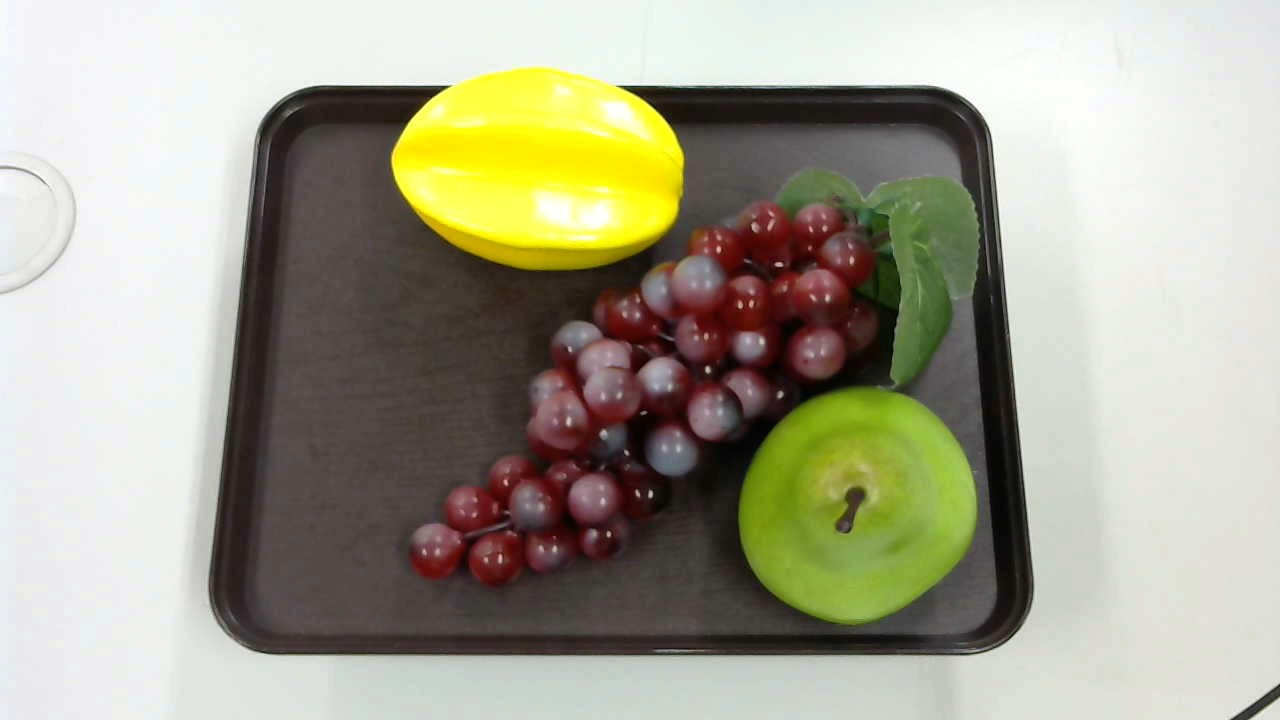grape: (417, 163, 987, 581)
green pear: (740, 384, 979, 623)
star fruit: (386, 72, 693, 274)
